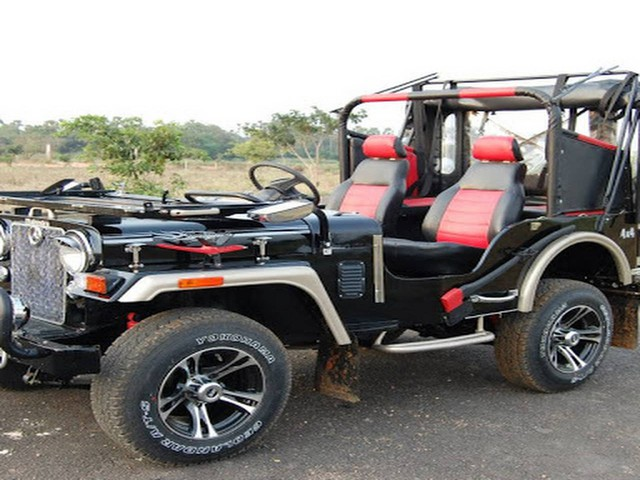Vehicle: (5, 59, 629, 456)
